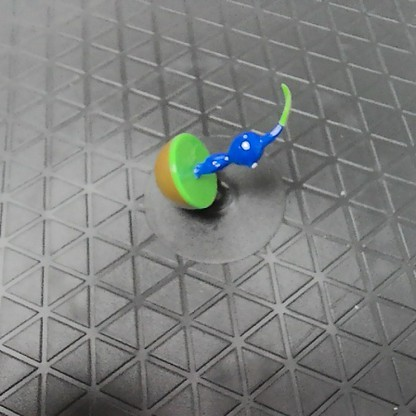leafairy: (150, 69, 294, 213)
